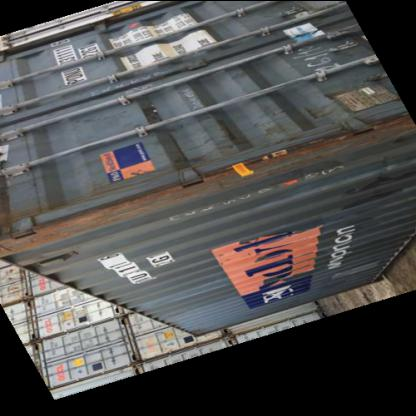Damage: (219, 102, 352, 178), (0, 202, 88, 250), (211, 244, 255, 266)
